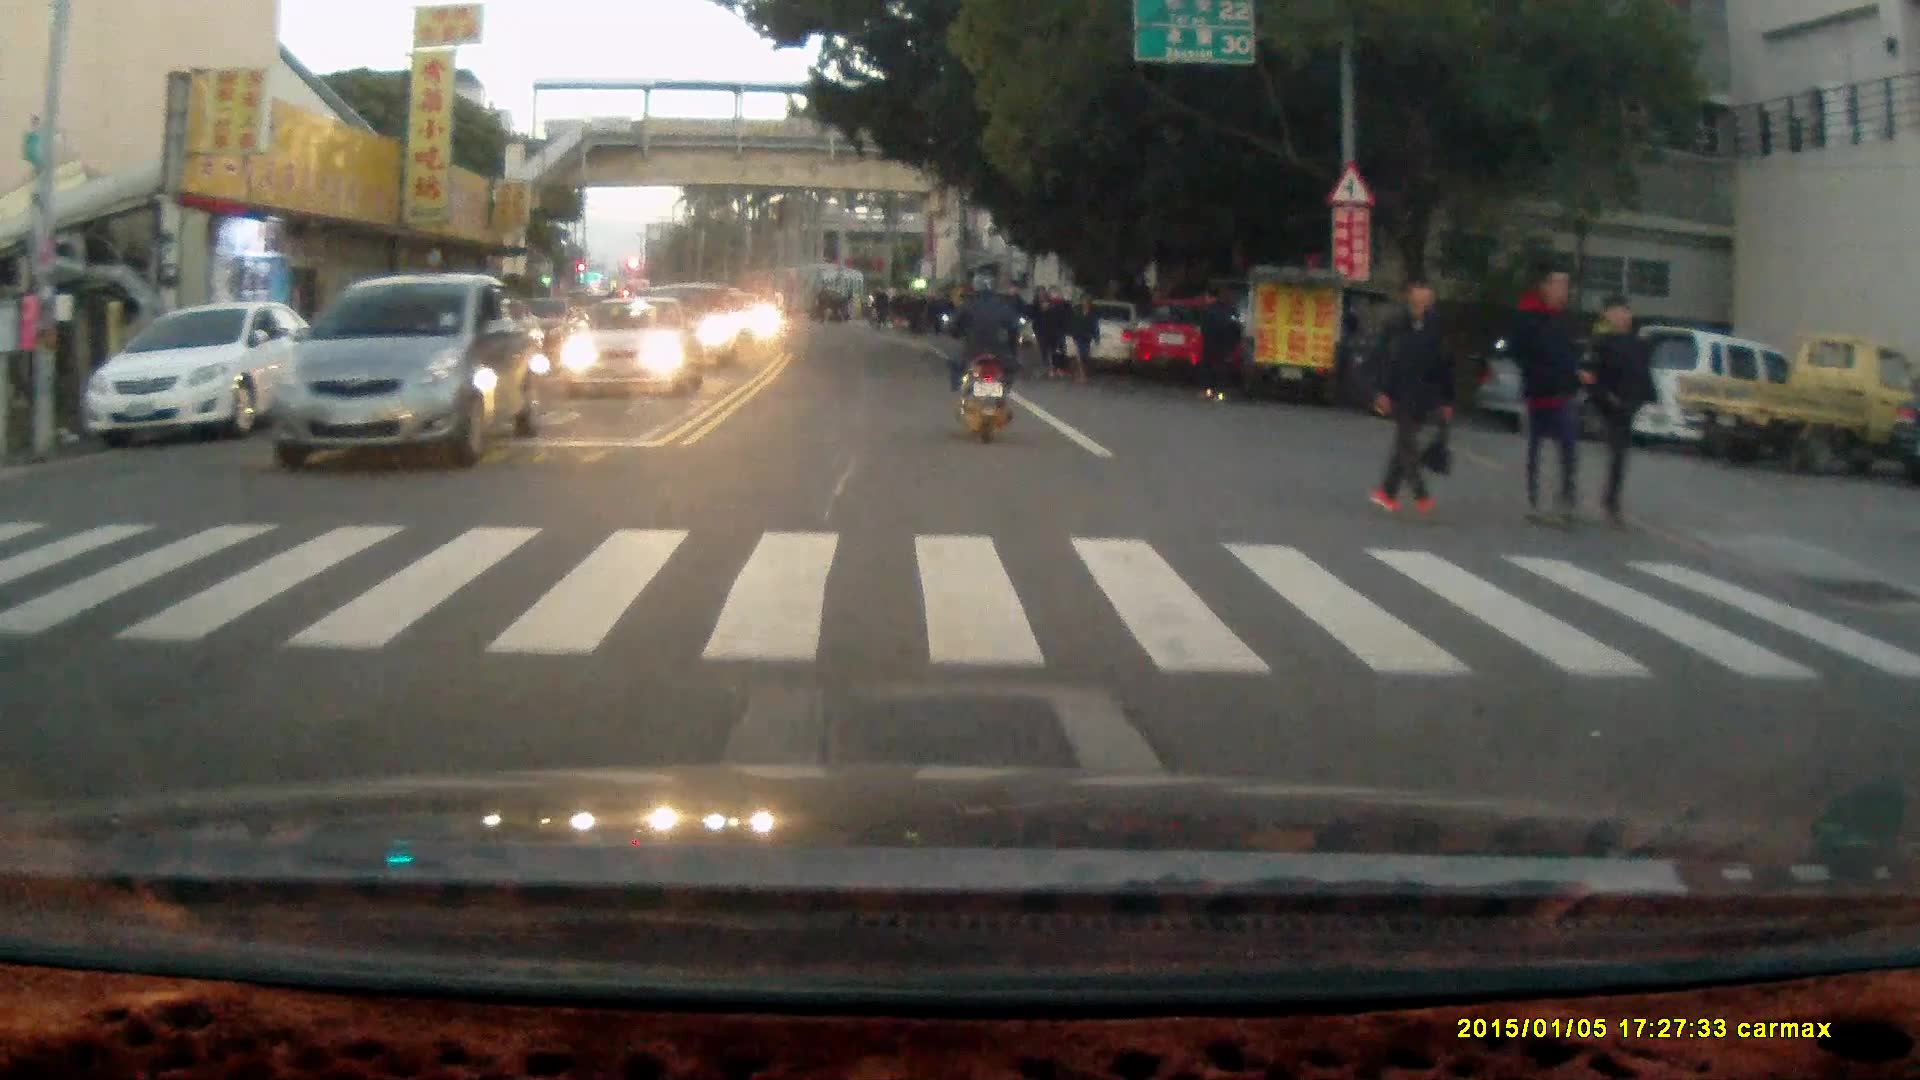pedestrian: (1363, 273, 1462, 528), (1511, 258, 1597, 533), (1581, 297, 1657, 539), (1191, 285, 1239, 410), (995, 277, 1028, 383), (1027, 286, 1057, 383), (1070, 292, 1102, 380)
rider: (938, 270, 1023, 446)
vehicle: (270, 276, 546, 470), (83, 300, 314, 444), (1669, 336, 1920, 468), (558, 297, 699, 401), (1126, 297, 1252, 388)
